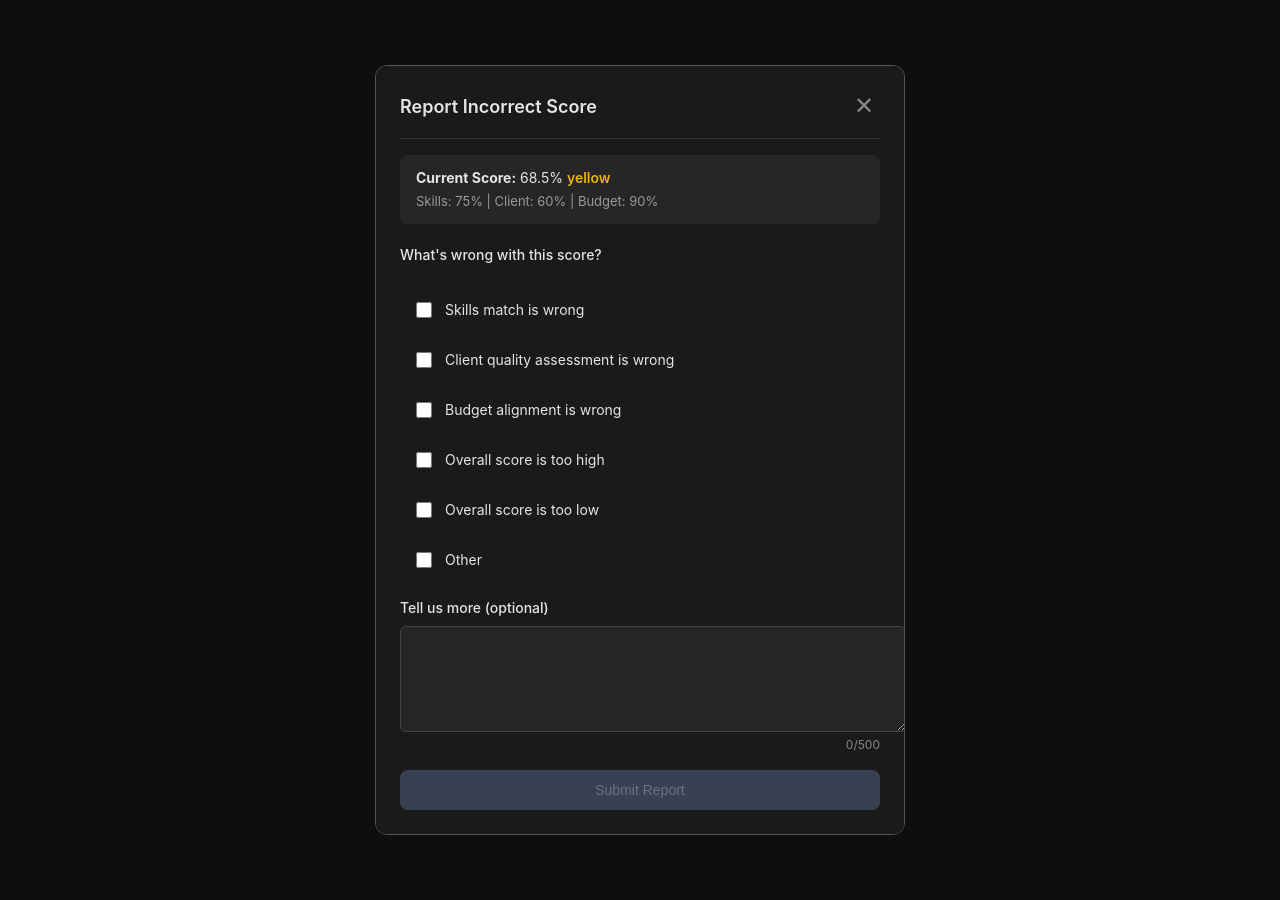
Test: ReportScoreModal › Task 12.6: Success state and auto-close › displays success state after successful submission
# Select an issue and submit
Click the checkbox labelled "Skills match is wrong". click: {"x": 424, "y": 310}
box: [416,302,432,318]
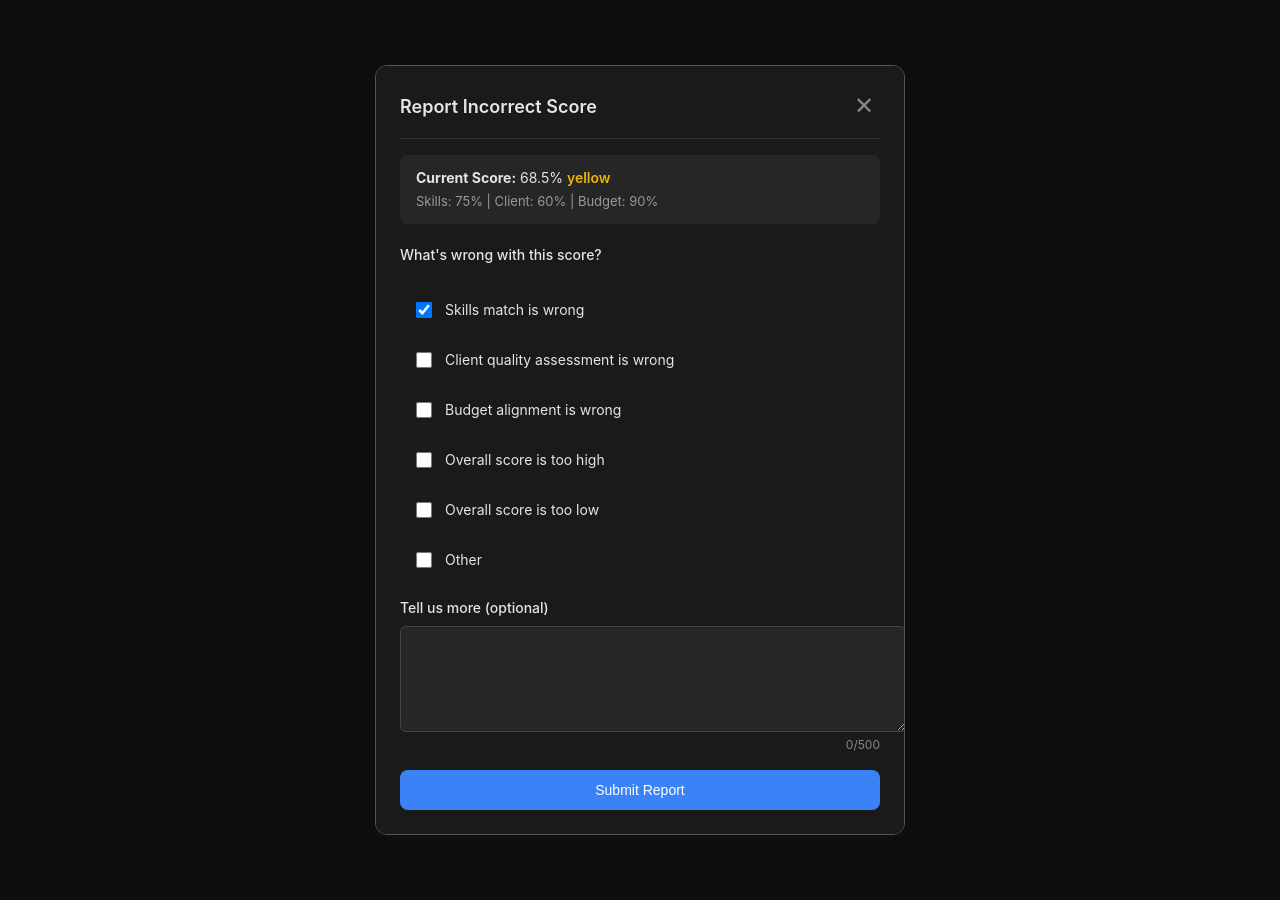
Click the button "Submit Report". click: {"x": 640, "y": 790}
box: [400,770,880,810]
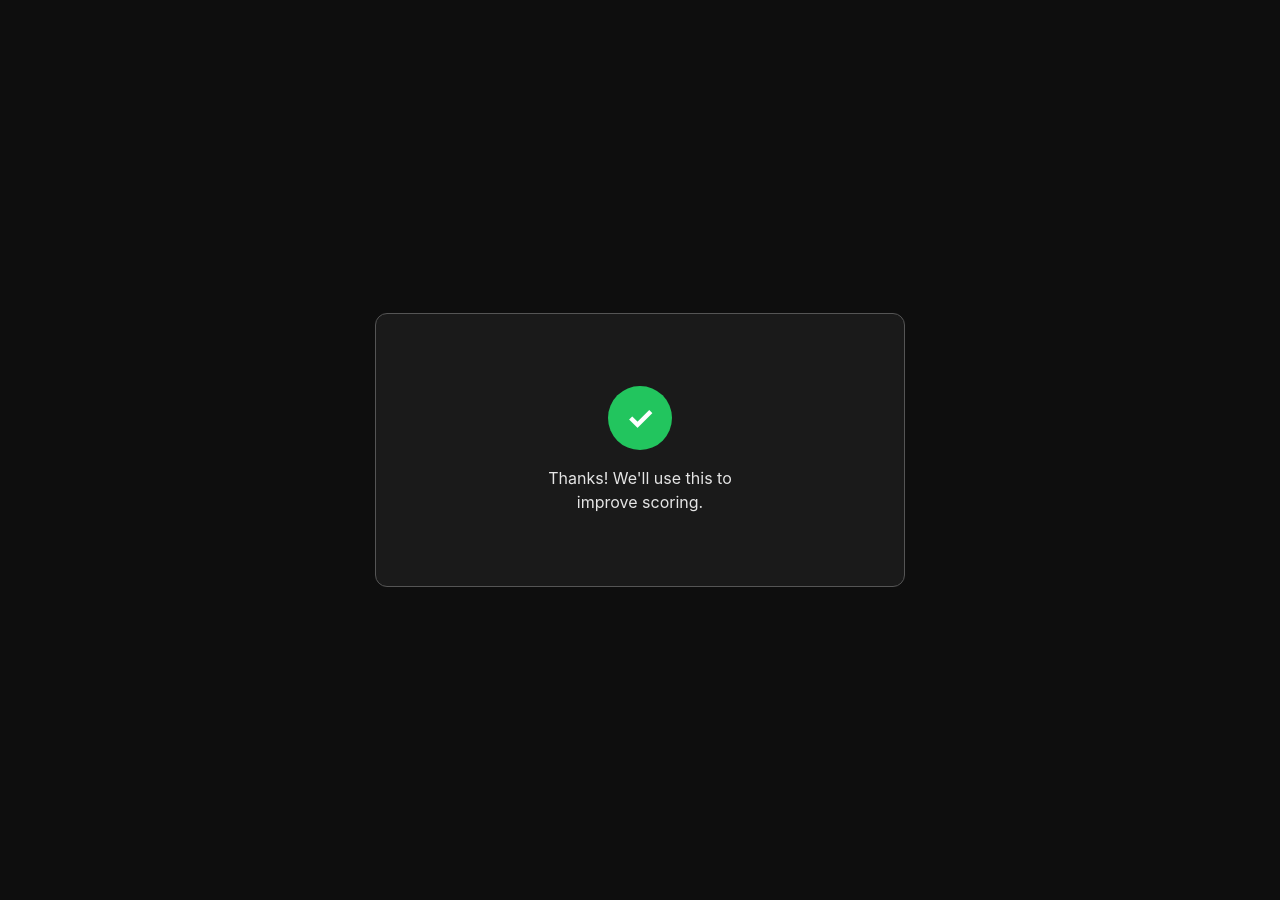
expect the text "Thanks!" is shown: met, box [548,468,732,488]
expect the text "improve scoring" is shown: met, box [577,492,703,512]
